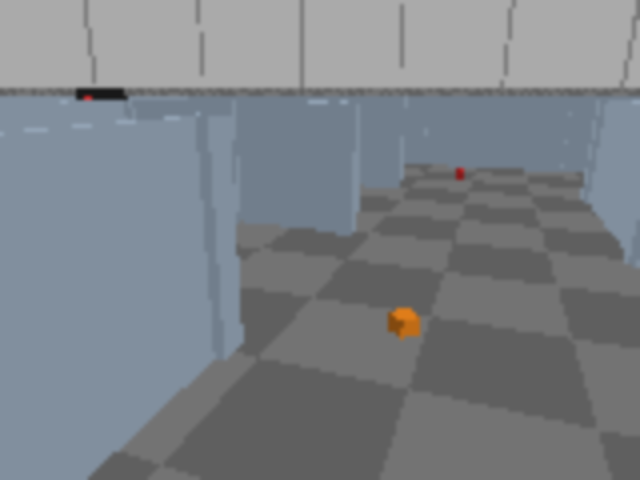puck: (388, 307, 422, 339)
